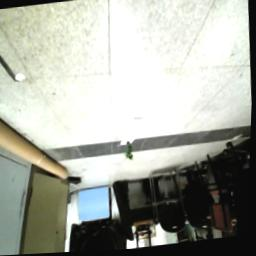herb: (125, 141, 137, 163)
